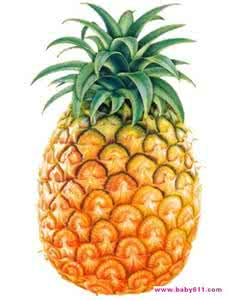pineapple: (35, 1, 206, 293)
